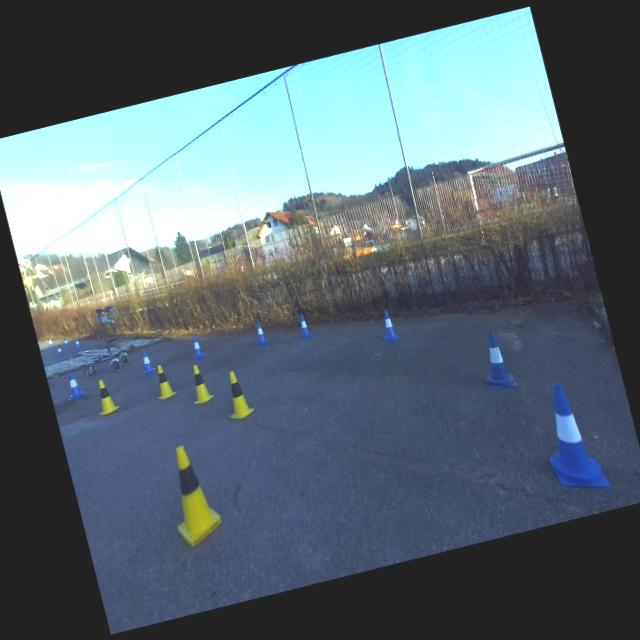blue_cone: (532, 377, 610, 500), (474, 327, 518, 392), (62, 369, 88, 402), (377, 307, 400, 343), (253, 320, 270, 346), (296, 313, 312, 339), (138, 348, 155, 372), (189, 334, 205, 358), (56, 345, 64, 357), (74, 338, 81, 348), (47, 338, 54, 348), (63, 338, 69, 347), (38, 339, 40, 346)
yellow_cone: (158, 441, 226, 548), (219, 368, 256, 420), (184, 362, 216, 406), (90, 376, 120, 417), (150, 362, 178, 402)
